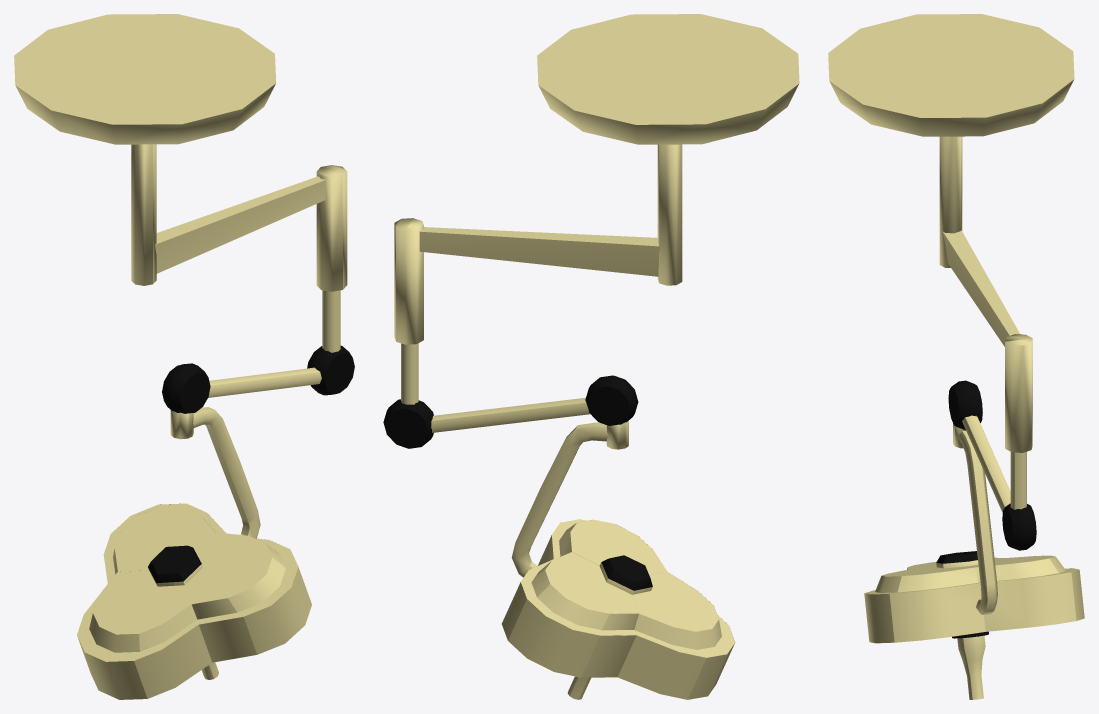
The model's file is LAMPAPOTOLOK.fbx.
3 renders of one model, left to right at view 1: azimuth 30°, elevation 25°; view 2: azimuth 150°, elevation 25°; view 3: azimuth 270°, elevation 25°, orthographic. The views are drawn at different scales.
Parts seen in each view (by area): view 1: LAMPA(POTOLOK); view 2: LAMPA(POTOLOK); view 3: LAMPA(POTOLOK).
Part boxes in pixels (box(x1,y1,x2,y2)): LAMPA(POTOLOK): box(14, 14, 354, 699); LAMPA(POTOLOK): box(383, 14, 799, 699); LAMPA(POTOLOK): box(828, 14, 1084, 699).
Size of the model in its own units: 253 by 430 by 167.
